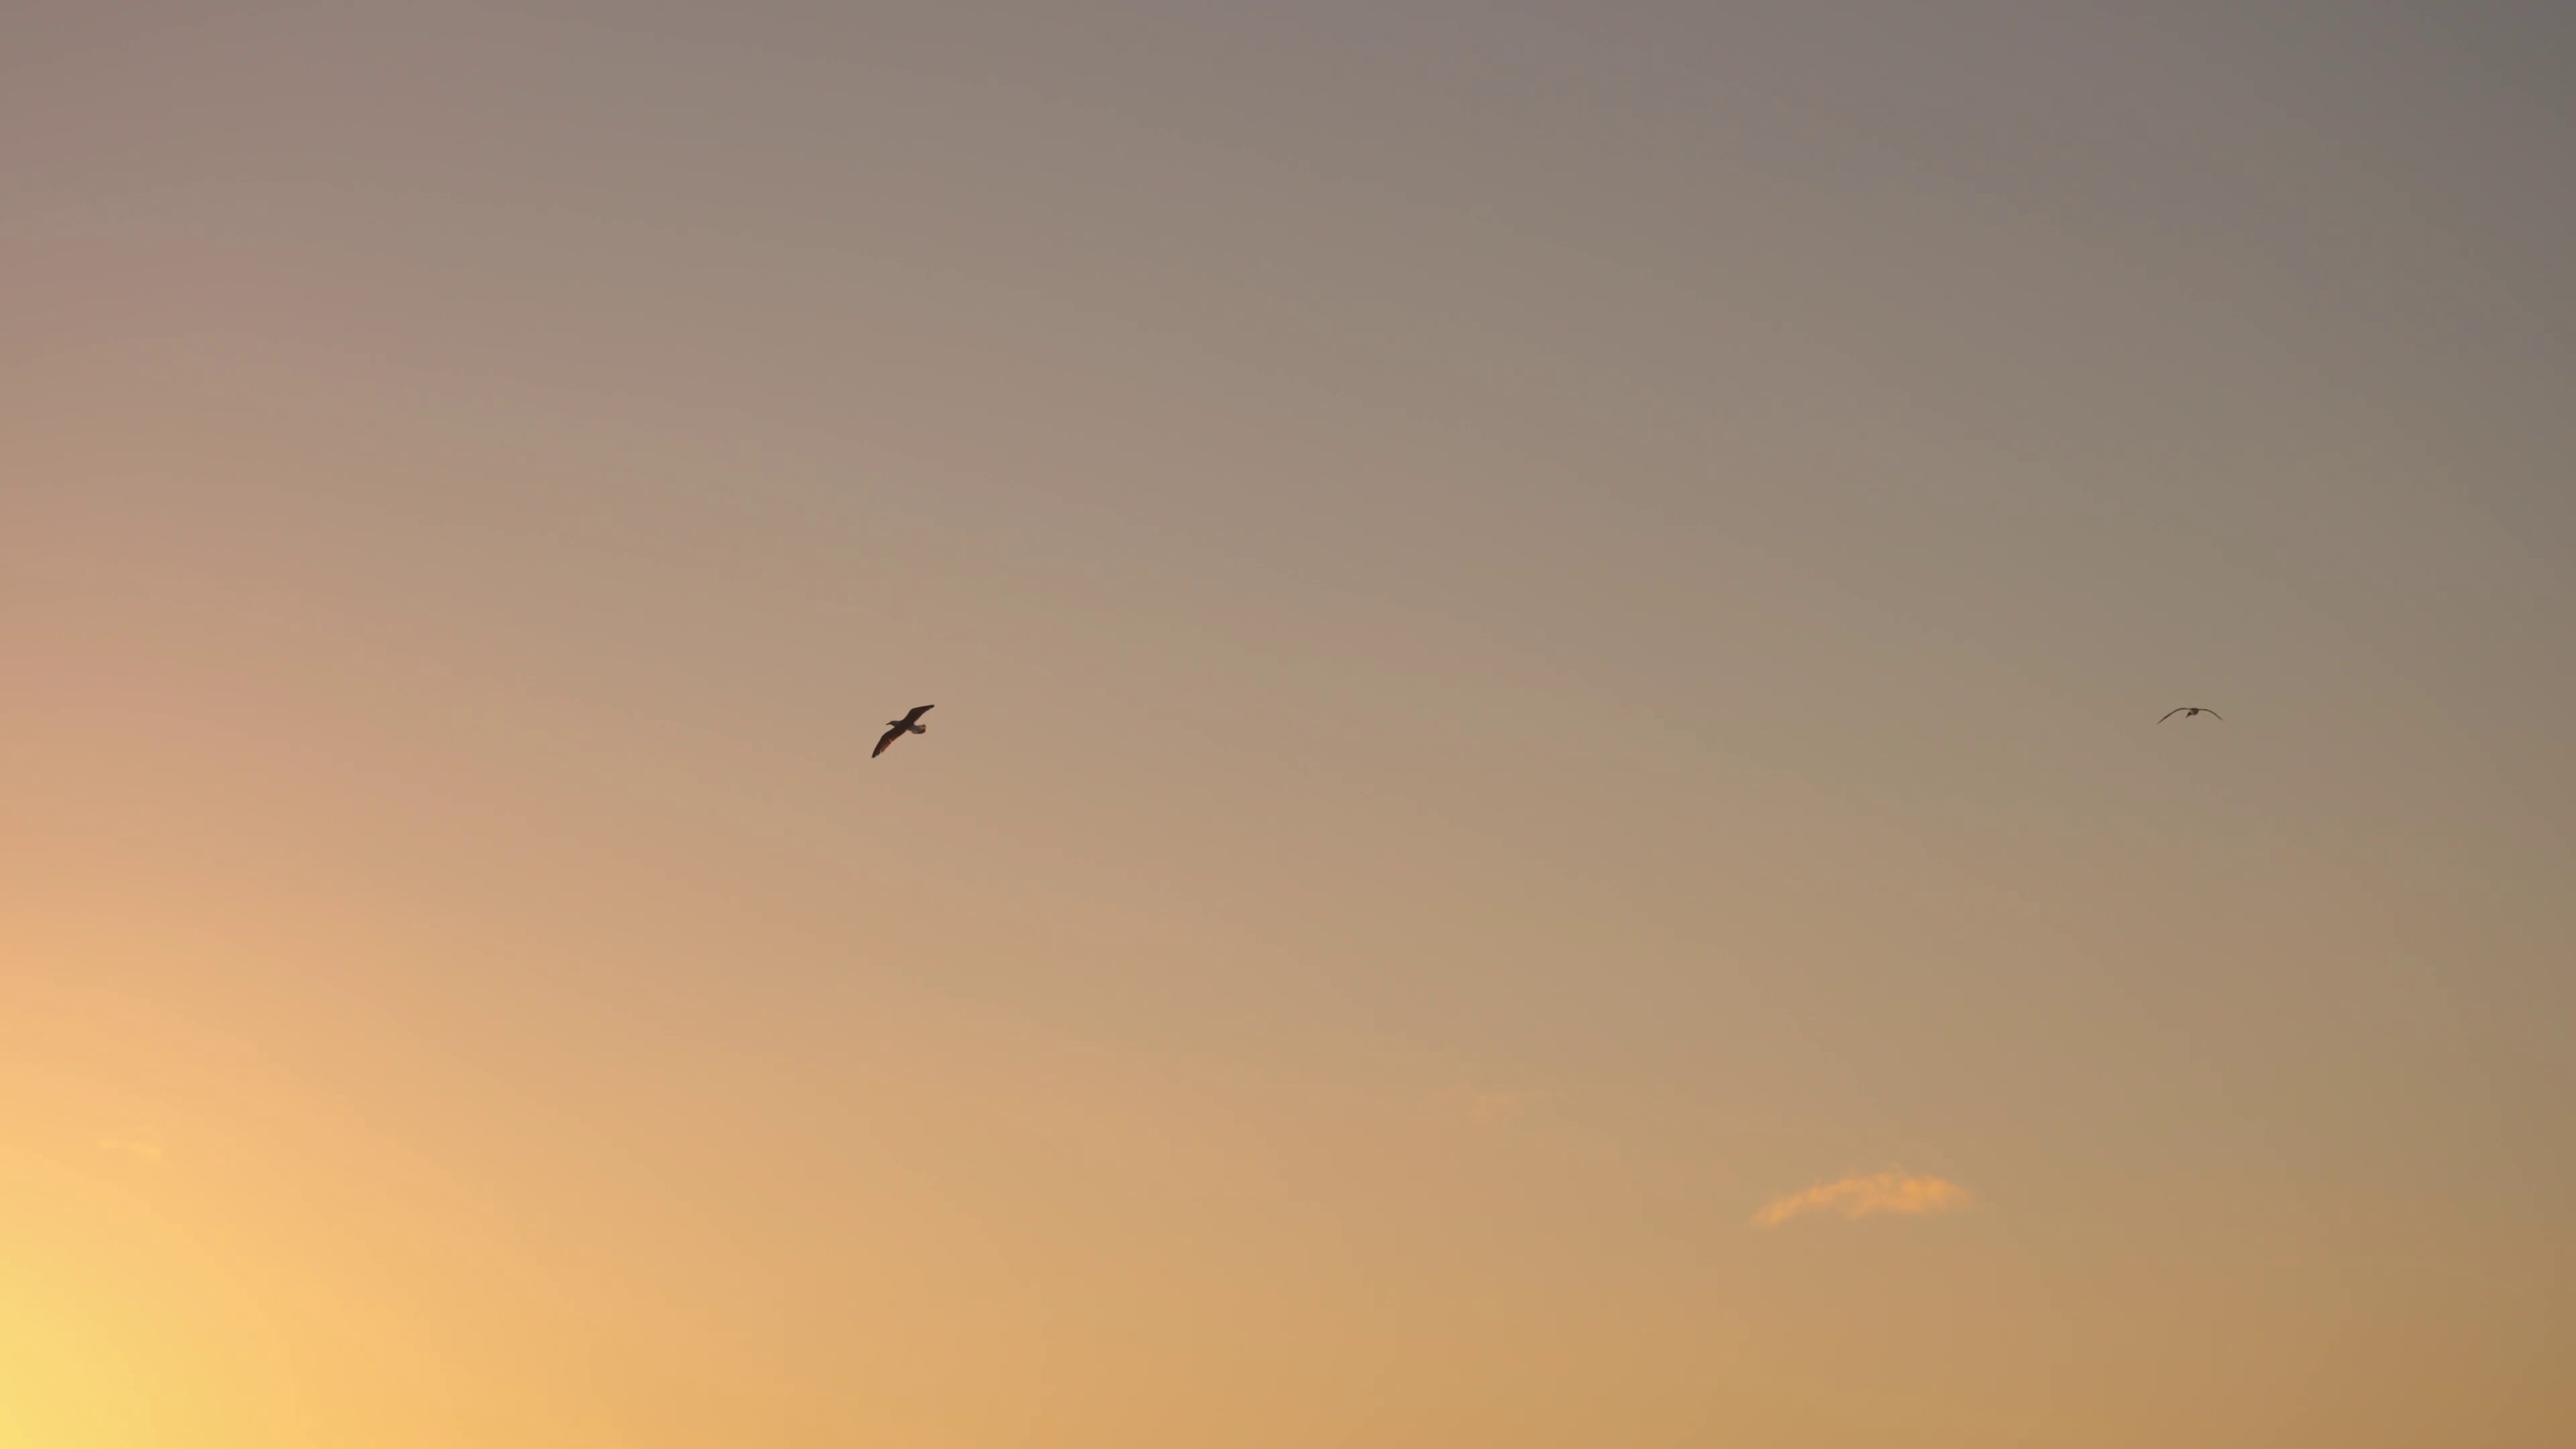bird: (870, 704, 936, 759), (2162, 704, 2222, 725)
